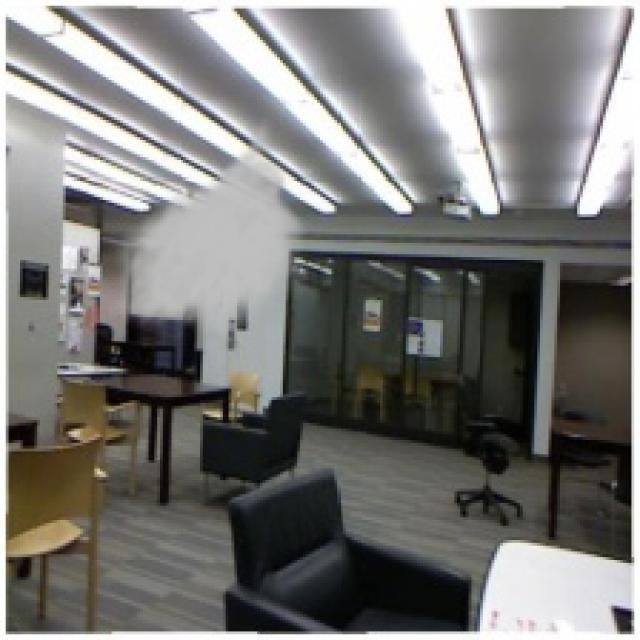smoke: (106, 114, 311, 337)
